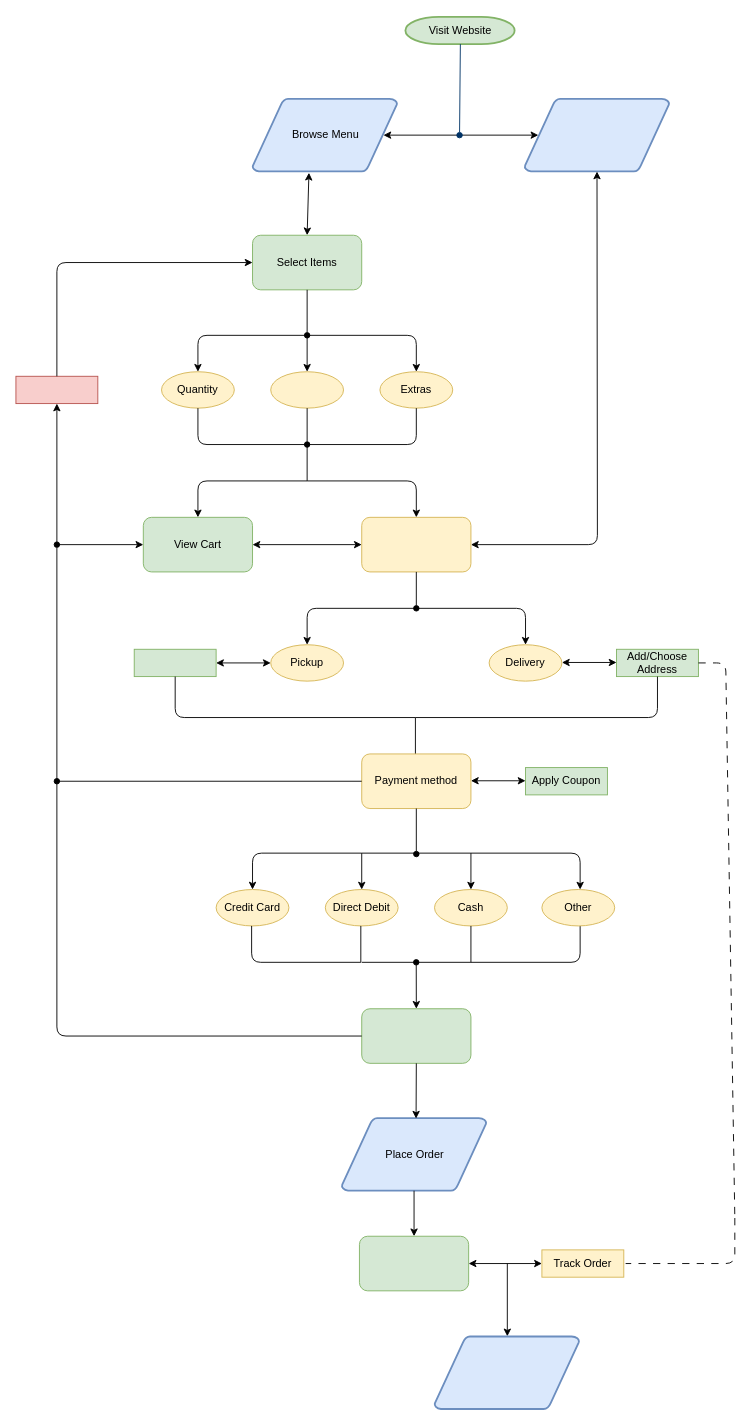
The diagram is 752 pixels wide and 1425 high, and some of its shapes have lost their labels. The shapes that lost their labels are listed below. From the top down, each one's box as (x1, y1, x2, y2) in pixels, then its label:
(523, 97, 670, 172): Register/Login
(15, 375, 98, 404): Cancel/ Remove Items
(270, 371, 344, 408): Size
(361, 516, 471, 572): Checkout
(133, 648, 216, 677): Choose branch
(361, 1008, 471, 1063): Review Order
(359, 1235, 469, 1291): Confirmation
(433, 1335, 580, 1410): Enjoy
